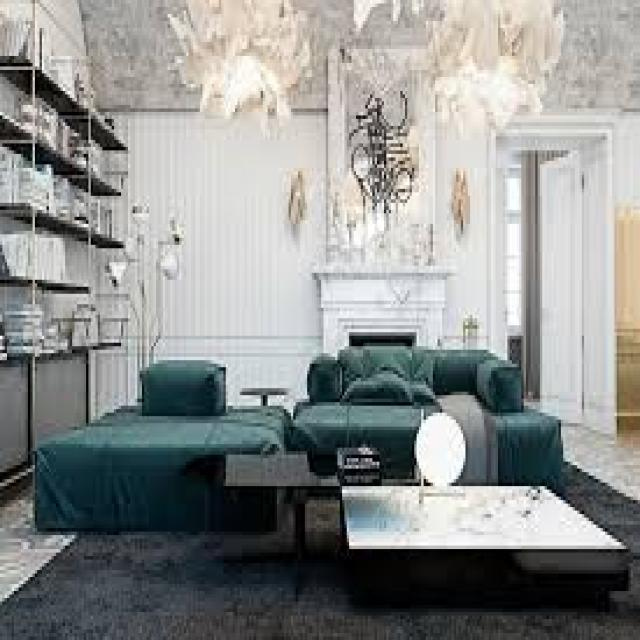Lamp: (108, 201, 178, 358)
Sofa: (33, 354, 289, 543), (303, 342, 569, 473)
Table: (342, 477, 634, 591), (229, 452, 369, 570)
